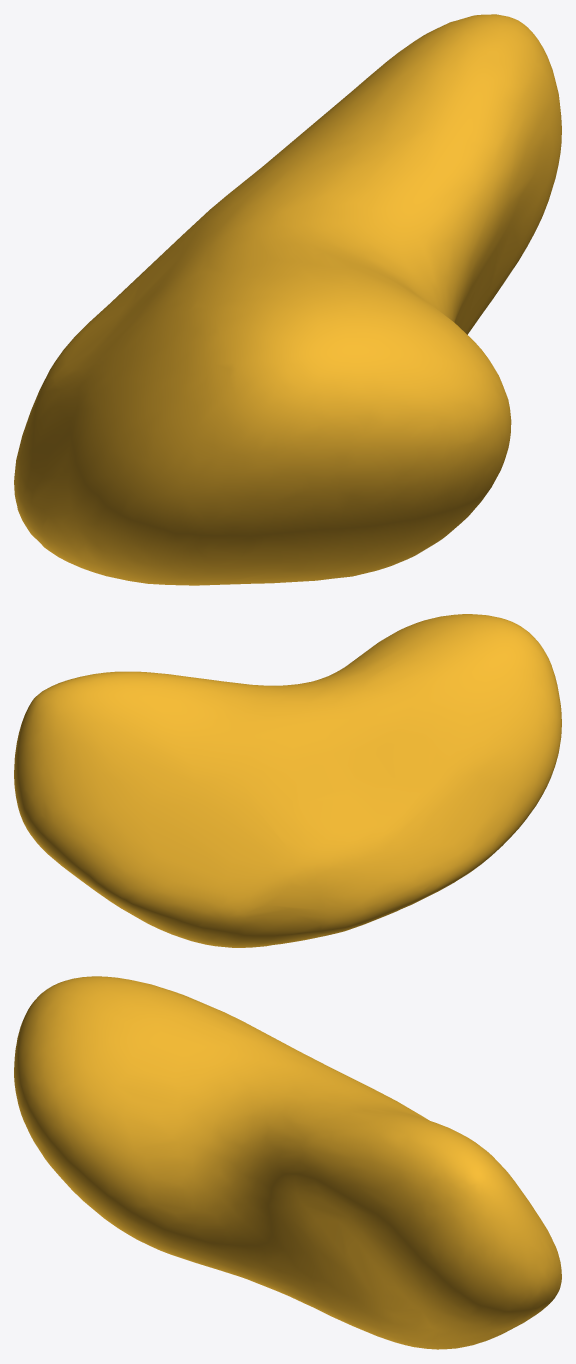
Rendered from nervoso-biventral-lobule-r.glb.
The picture shows the model from 3 angles, top to bottom: view 1: azimuth 30°, elevation 25°; view 2: azimuth 150°, elevation 25°; view 3: azimuth 270°, elevation 25°; orthographic projection. The views are drawn at different scales.
Visible parts, largest first — view 1: Biventral lobule.r; view 2: Biventral lobule.r; view 3: Biventral lobule.r.
Part boxes in pixels (x1=…): Biventral lobule.r: x1=14, y1=14, x2=561, y2=585; Biventral lobule.r: x1=14, y1=614, x2=561, y2=947; Biventral lobule.r: x1=14, y1=976, x2=561, y2=1349.
Size of the model in its own units: 0.0345 by 0.02 by 0.0355.
